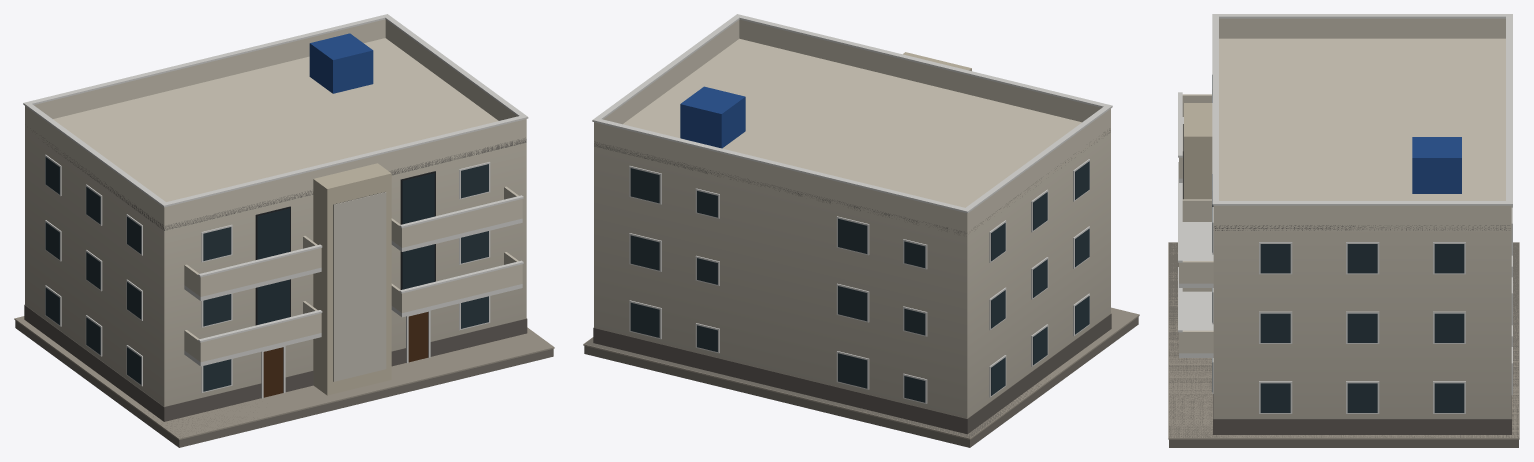
The model's file is ns_flats3_lod1.glb.
3 views of the same model, side by side, from view 1: azimuth 30°, elevation 25°; view 2: azimuth 150°, elevation 25°; view 3: azimuth 270°, elevation 25° (orthographic). The views are drawn at different scales.
Visible parts, largest first — view 1: ns_flats3_lod1; view 2: ns_flats3_lod1; view 3: ns_flats3_lod1.
Part boxes in pixels (<box>): ns_flats3_lod1: <box>14,14,554,447</box>; ns_flats3_lod1: <box>583,14,1139,447</box>; ns_flats3_lod1: <box>1168,14,1519,447</box>.
Bounding box in the file's own units: 18.66 × 11.35 × 14.16.
